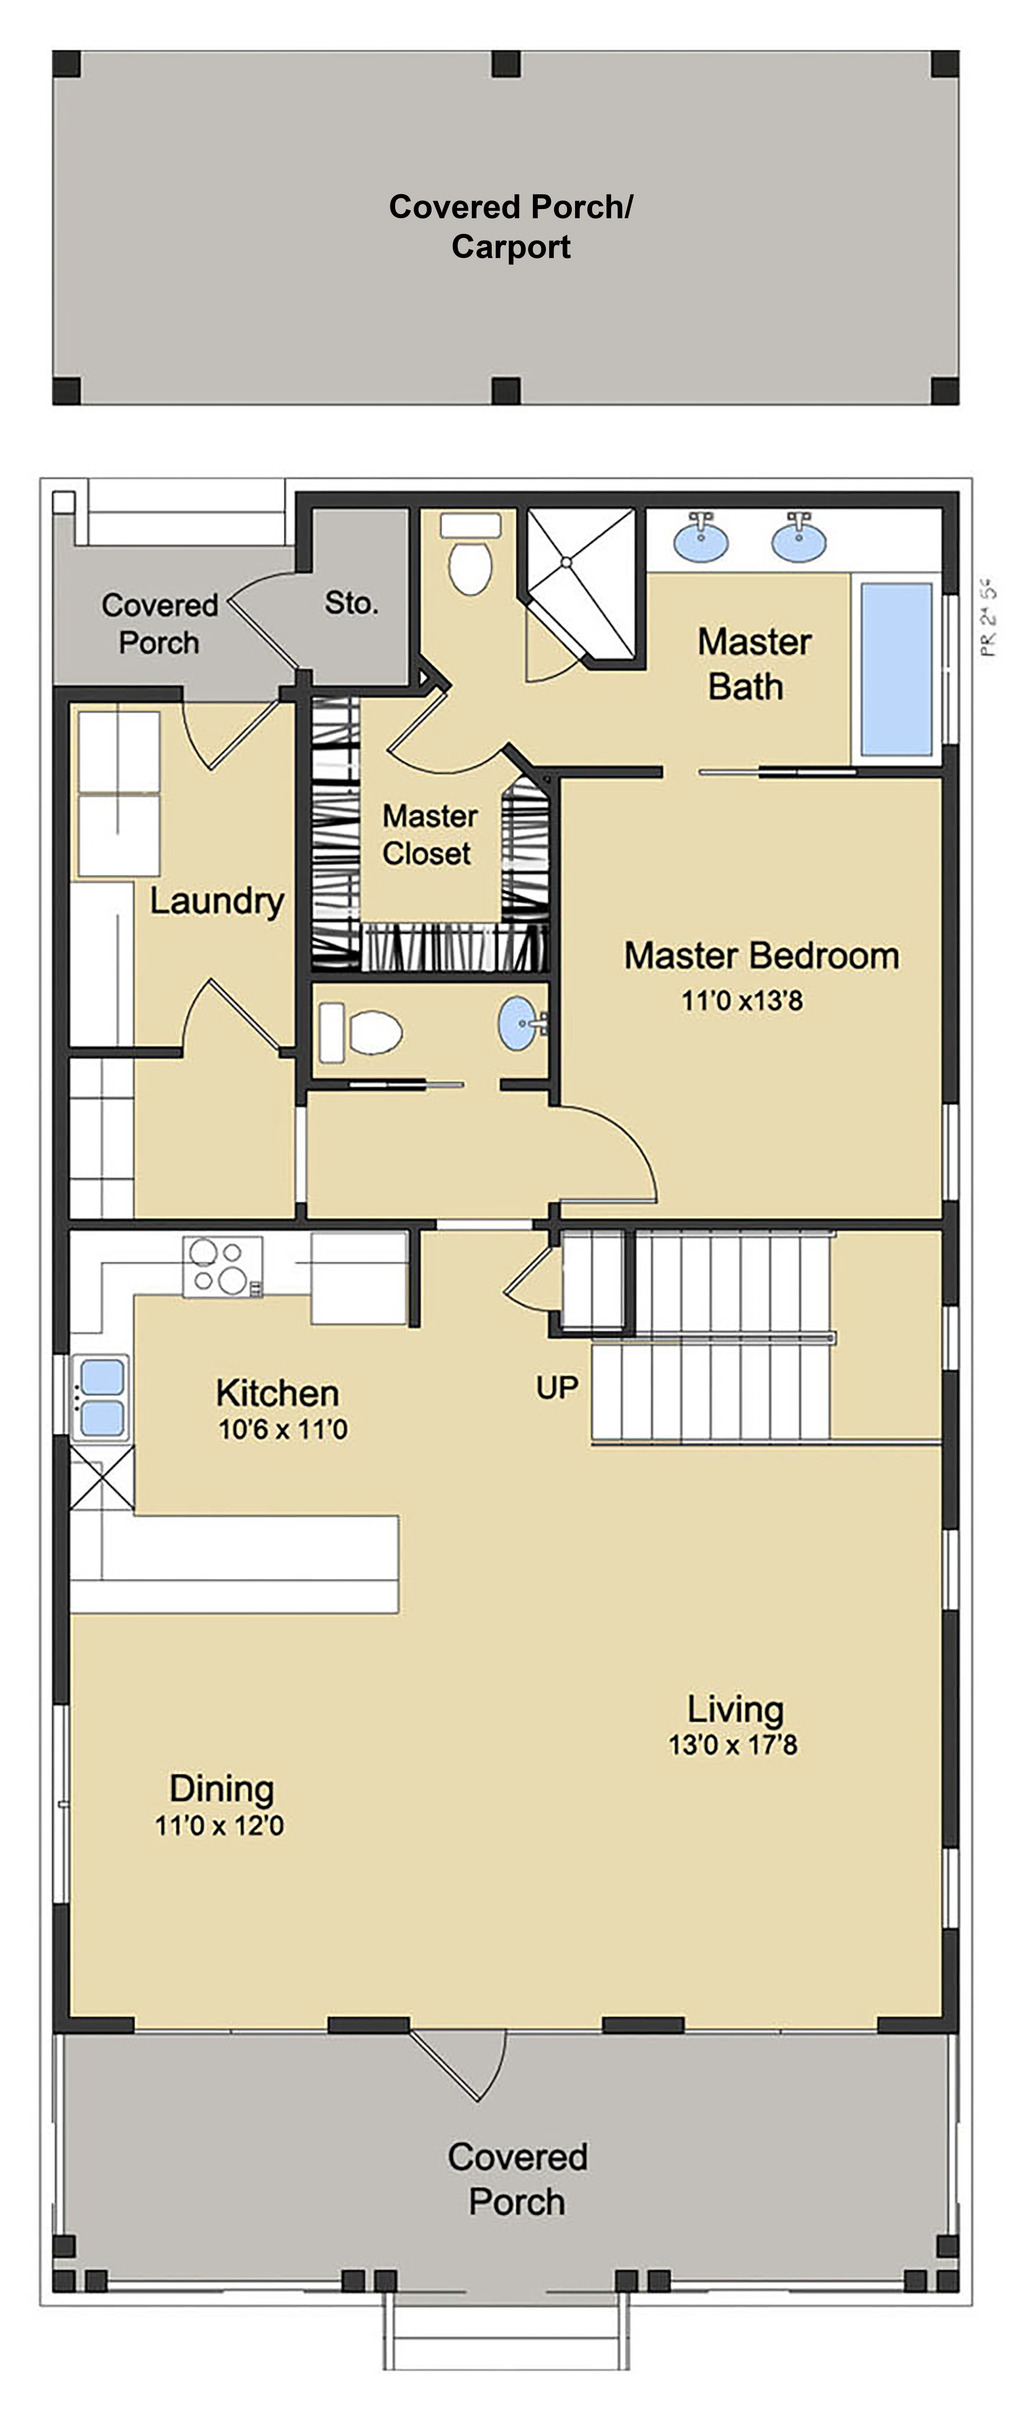door: (387, 676, 515, 782), (213, 564, 323, 688), (541, 1099, 660, 1210), (161, 965, 288, 1068), (398, 2022, 518, 2123), (183, 683, 277, 770)
large_sink: (643, 496, 944, 578), (302, 992, 410, 1074), (432, 499, 510, 609)
small_sink: (640, 499, 940, 581)
stairs: (554, 1224, 874, 1452)
tub: (851, 567, 956, 768)
twin_sink: (73, 1350, 133, 1450)
windows: (43, 1684, 82, 1905), (933, 1832, 968, 1937), (940, 1523, 971, 1625)
